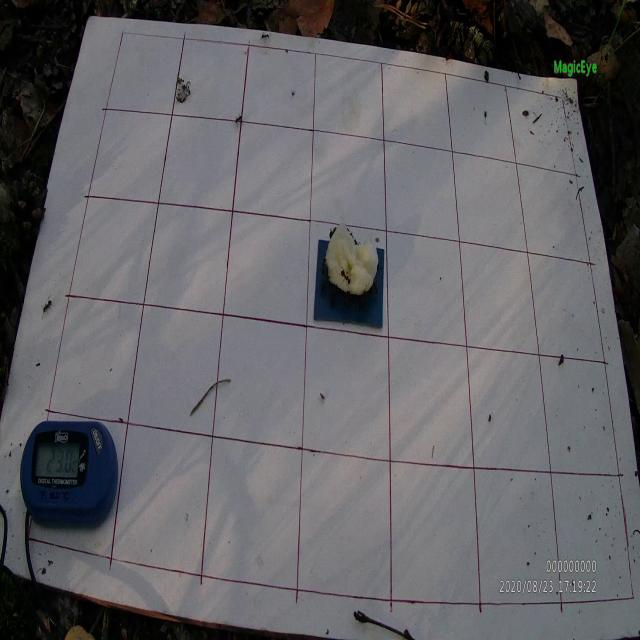Ant: (40, 295, 54, 320), (337, 264, 352, 286), (233, 113, 243, 128), (260, 32, 271, 42), (322, 256, 326, 276)
